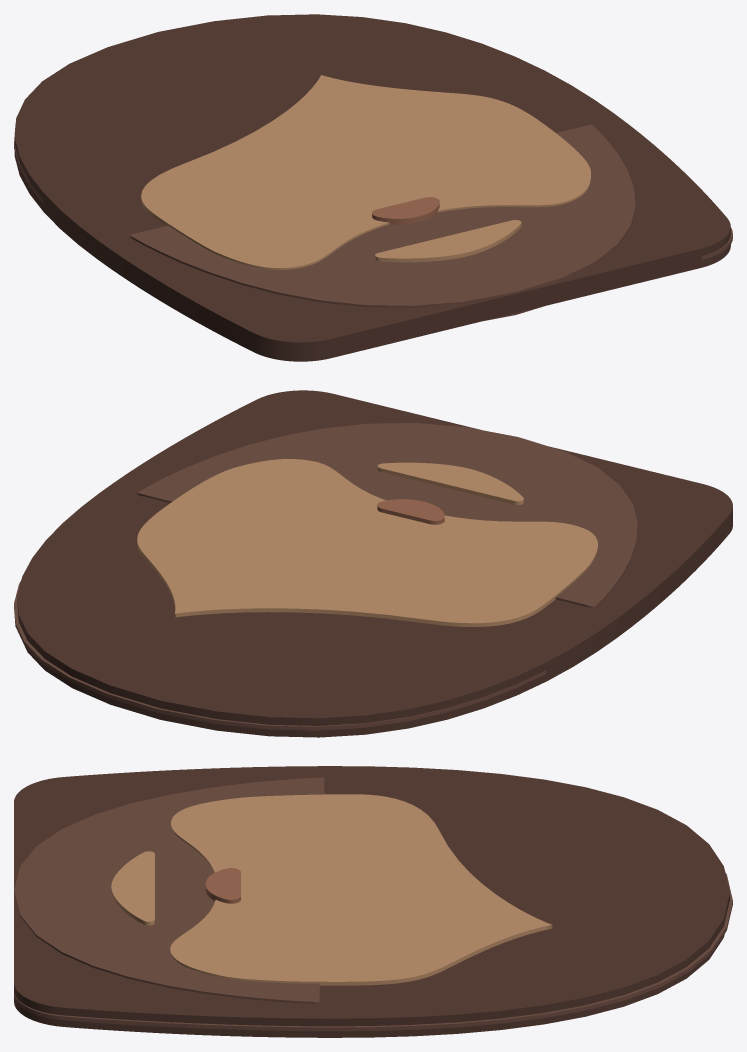
The model's file is emoji_u1f9d4_1f3fd_200d_2640.glb.
3 views of the same model, one above another, from view 1: azimuth 30°, elevation 25°; view 2: azimuth 150°, elevation 25°; view 3: azimuth 270°, elevation 25° (orthographic).
Parts seen in each view (by area): view 1: emoji_u1f9d4_1f3fd_200d_2640; view 2: emoji_u1f9d4_1f3fd_200d_2640; view 3: emoji_u1f9d4_1f3fd_200d_2640.
Part boxes in pixels (x1,y1,x2,y2): emoji_u1f9d4_1f3fd_200d_2640: [14, 14, 732, 361]; emoji_u1f9d4_1f3fd_200d_2640: [14, 390, 732, 737]; emoji_u1f9d4_1f3fd_200d_2640: [14, 766, 732, 1037].
Size of the model in its own units: 0.0283 by 0.0018 by 0.0339.
